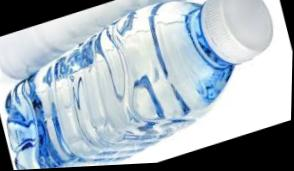plastic: (0, 0, 271, 168)
